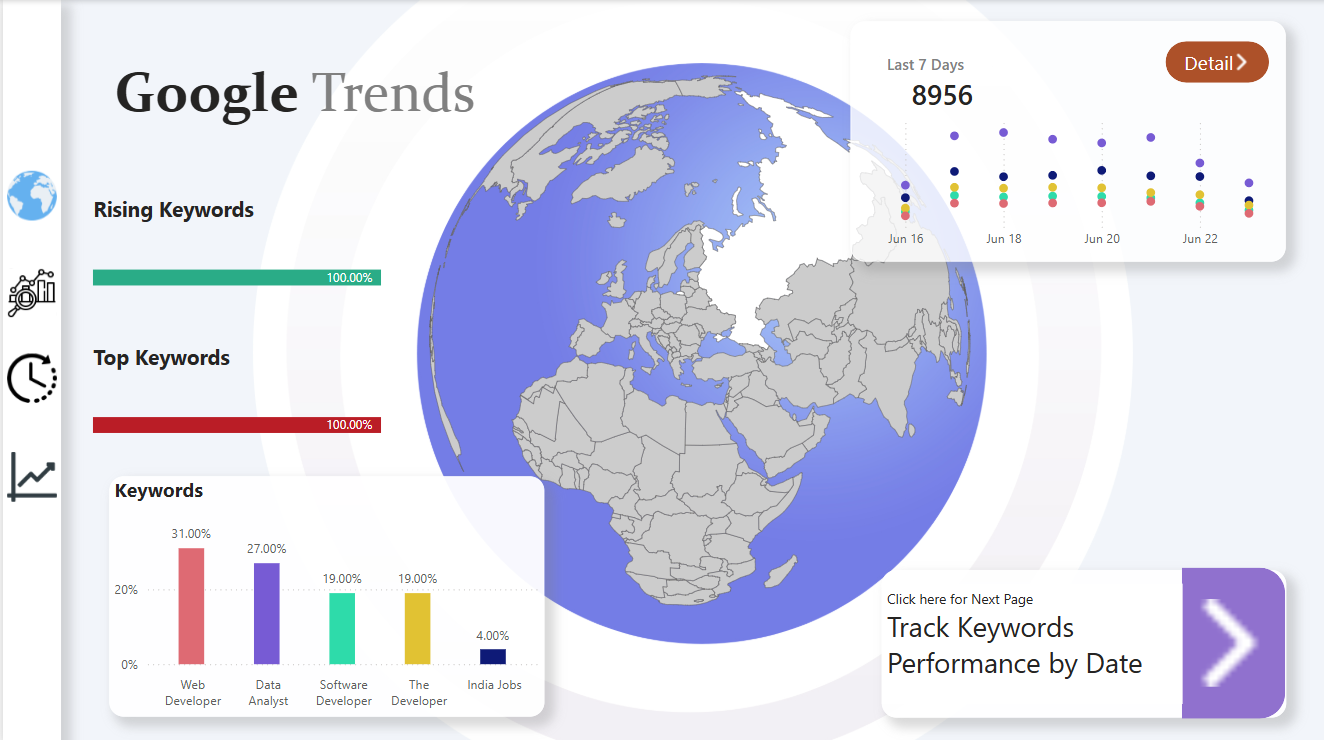

The page's visual inventory and layout, read from the dashboard file:
{"tool":"powerbi","page":{"name":"Overview","canvas":[1280,720],"ordinal":0},"visuals":[{"type":"shapeMap","fields":{"Category":["Country_API.Country"]},"box":[338,40,670,578],"z":1000},{"type":"shape","box":[0,0,56,720],"z":2000},{"type":"shape","box":[102,460,420,232],"z":3000},{"type":"shape","box":[818,20,420,232],"z":4000},{"type":"shape","box":[848,550,390,142],"z":5000},{"type":"actionButton","box":[1138,548,100,146],"z":6000},{"type":"clusteredColumnChart","title":"Keywords","fields":{"Y":["Country_Measures.Country_Value"],"Category":["Country_API.Keywords"]},"box":[102,460,420,232],"z":7000},{"type":"lineChart","fields":{"Series":["Past_7_Days_Searches.Keywords"],"Y":["Past_7_Days_Searches.Last_7_Days_Value"],"Category":["Past_7_Days_Searches.Date.Variation.Date Hierarchy.Year","Past_7_Days_Searches.Date.Variation.Date Hierarchy.Quarter","Past_7_Days_Searches.Date.Variation.Date Hierarchy.Month","Past_7_Days_Searches.Date.Variation.Date Hierarchy.Day"]},"box":[848.1,102.5,377.6,146],"z":8000},{"type":"actionButton","title":"Detail","box":[1122,40,100,40],"z":9000},{"type":"card","title":"Last 7 Days","fields":{"Values":["Past_7_Days_Searches.Last_7_Days_Value"]},"box":[848.1,51.9,117,60.3],"z":10000},{"type":"textbox","box":[848,564,290,116],"z":11000},{"type":"textbox","box":[102,52,534,76],"z":12000},{"type":"hundredPercentStackedBarChart","title":"Top Keywords","fields":{"Y":["CountNonNull(Top_Keywords.Category)"]},"box":[82,330,288,128],"z":13000},{"type":"hundredPercentStackedBarChart","title":"Rising Keywords","fields":{"Y":["CountNonNull(Rising_Keywords.Category)"]},"box":[82,188,288,128],"z":14000},{"type":"actionButton","box":[0,154,56,68],"z":15000},{"type":"actionButton","box":[0,248,56,68],"z":16000},{"type":"actionButton","box":[0,330,56,68],"z":17000},{"type":"actionButton","box":[0,426,56,68],"z":18000}]}

Visuals, with their boxes on the page's 1280x720 design canvas (x1, y1, x2, y2). These are canvas units, not pixel positions in the 1324x740 screenshot, which may show the page scaled, cropped or inside an application window:
shapeMap - Country_API.Country: select_region(338, 40, 1008, 618)
shape: select_region(0, 0, 56, 720)
shape: select_region(102, 460, 522, 692)
shape: select_region(818, 20, 1238, 252)
shape: select_region(848, 550, 1238, 692)
actionButton: select_region(1138, 548, 1238, 694)
"Keywords" clusteredColumnChart: select_region(102, 460, 522, 692)
lineChart - Past_7_Days_Searches.Keywords x Past_7_Days_Searches.Last_7_Days_Value: select_region(848, 102, 1226, 248)
"Detail" actionButton: select_region(1122, 40, 1222, 80)
"Last 7 Days" card: select_region(848, 52, 965, 112)
textbox: select_region(848, 564, 1138, 680)
textbox: select_region(102, 52, 636, 128)
"Top Keywords" hundredPercentStackedBarChart: select_region(82, 330, 370, 458)
"Rising Keywords" hundredPercentStackedBarChart: select_region(82, 188, 370, 316)
actionButton: select_region(0, 154, 56, 222)
actionButton: select_region(0, 248, 56, 316)
actionButton: select_region(0, 330, 56, 398)
actionButton: select_region(0, 426, 56, 494)
